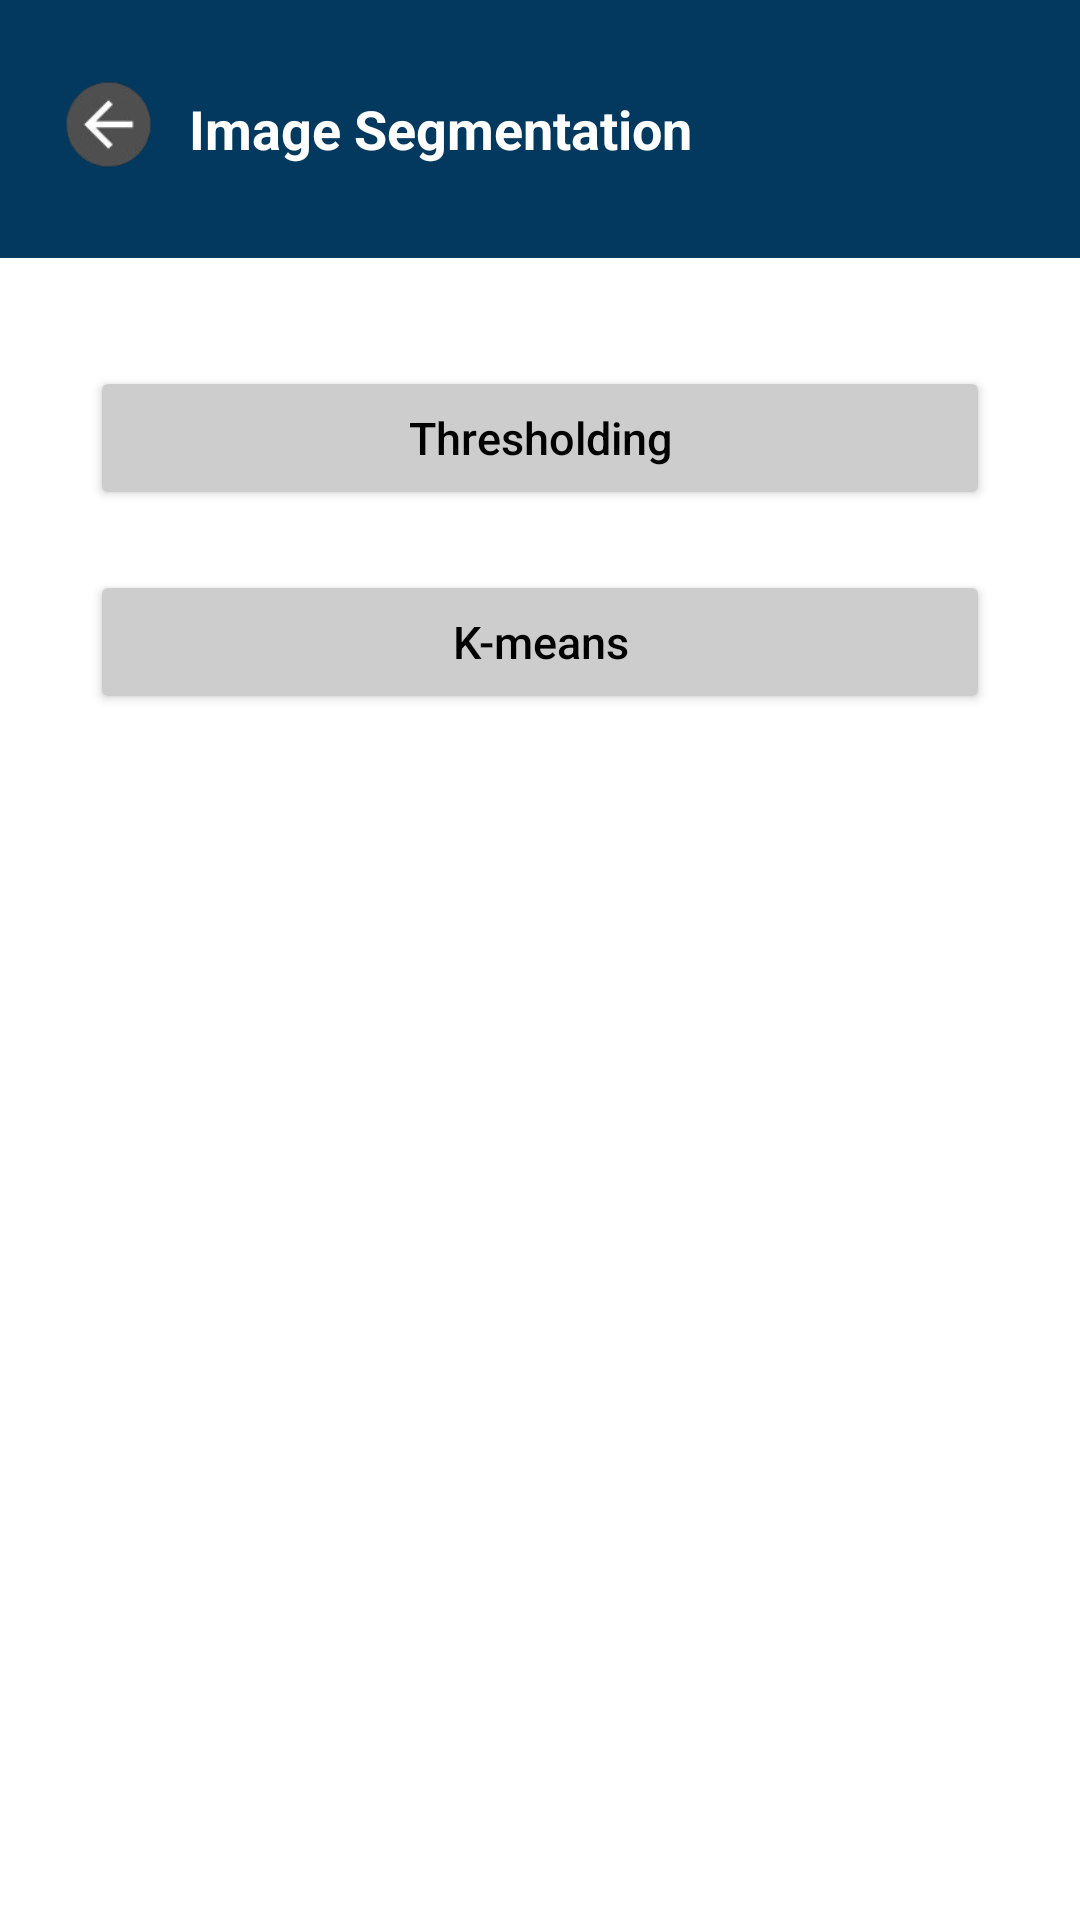

Screen size 1080×1920. Icon name, then its center in pixels as (x=x, y=y):
back: (x=108, y=124)
